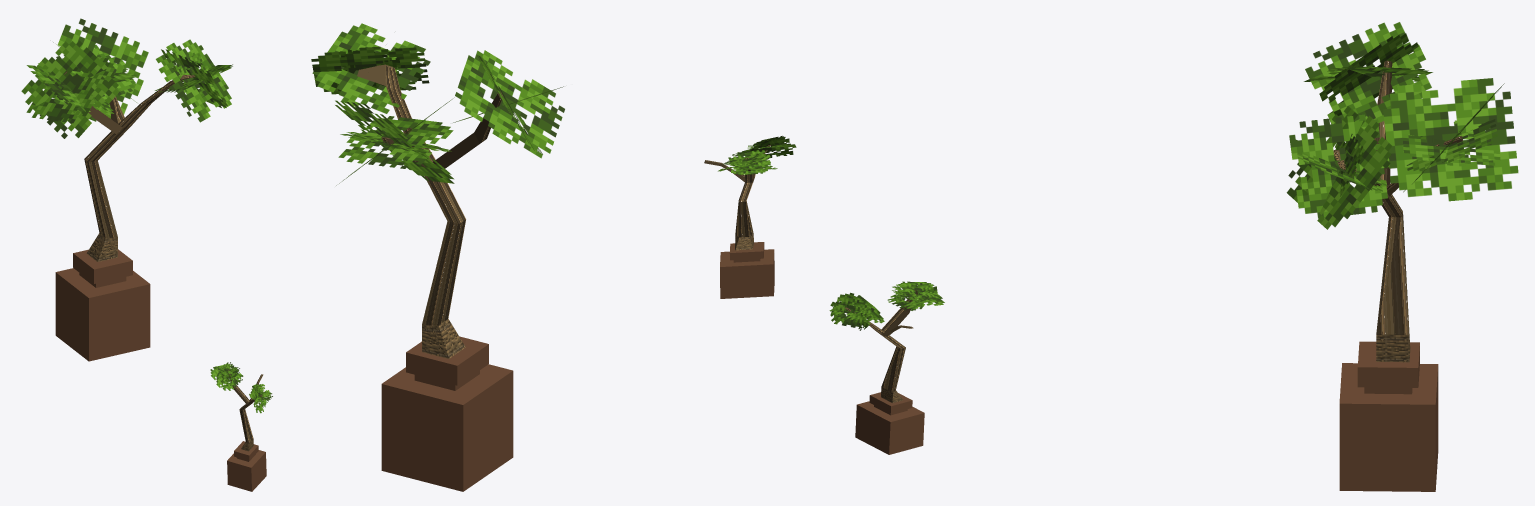
File: plants.glb
The picture shows the model from 3 angles, left to right: view 1: azimuth 30°, elevation 25°; view 2: azimuth 150°, elevation 25°; view 3: azimuth 270°, elevation 25°; orthographic projection. The views are drawn at different scales.
Visible parts, largest first — view 1: 637583558747302568.005; view 2: 637583558747302568.005; view 3: 637583558747302568.005.
Part boxes in pixels (bbox=[...]): 637583558747302568.005: bbox=[21, 18, 272, 491]; 637583558747302568.005: bbox=[311, 23, 796, 491]; 637583558747302568.005: bbox=[829, 22, 1518, 491].
Bounding box in the file's own units: 4.55 × 7.06 × 10.35.
23 materials, 21 textured.
